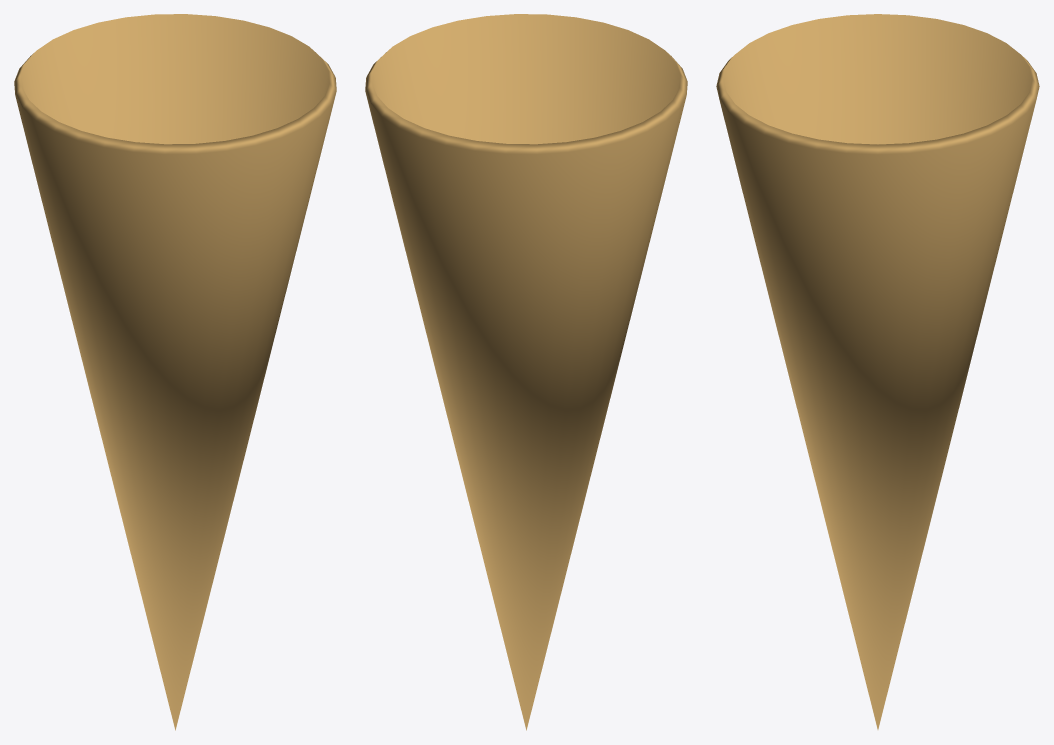
File: uploads_files_3528924_snacking_tray.fbx
The picture shows the model from 3 angles, left to right: view 1: azimuth 30°, elevation 25°; view 2: azimuth 150°, elevation 25°; view 3: azimuth 270°, elevation 25°; orthographic projection.
Visible parts, largest first — view 1: Cone.002; view 2: Cone.002; view 3: Cone.002.
Boxes of the visible parts, bbox=[...] form: Cone.002: bbox=[14, 14, 336, 730]; Cone.002: bbox=[365, 14, 687, 730]; Cone.002: bbox=[716, 14, 1039, 729].
Size of the model in its own units: 5.53 by 12.31 by 5.53.
